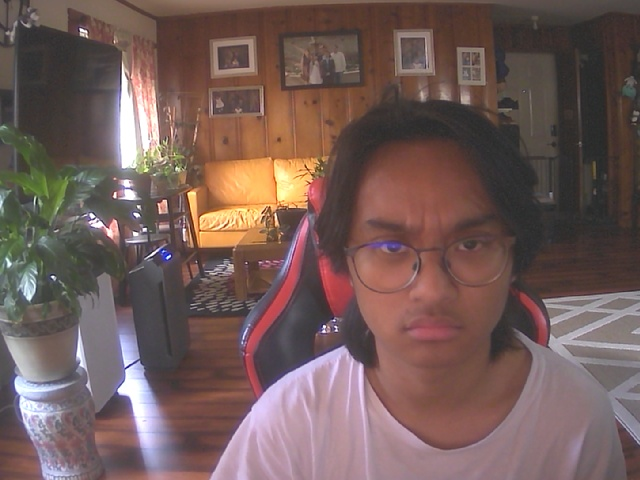anger: (343, 108, 530, 371)
